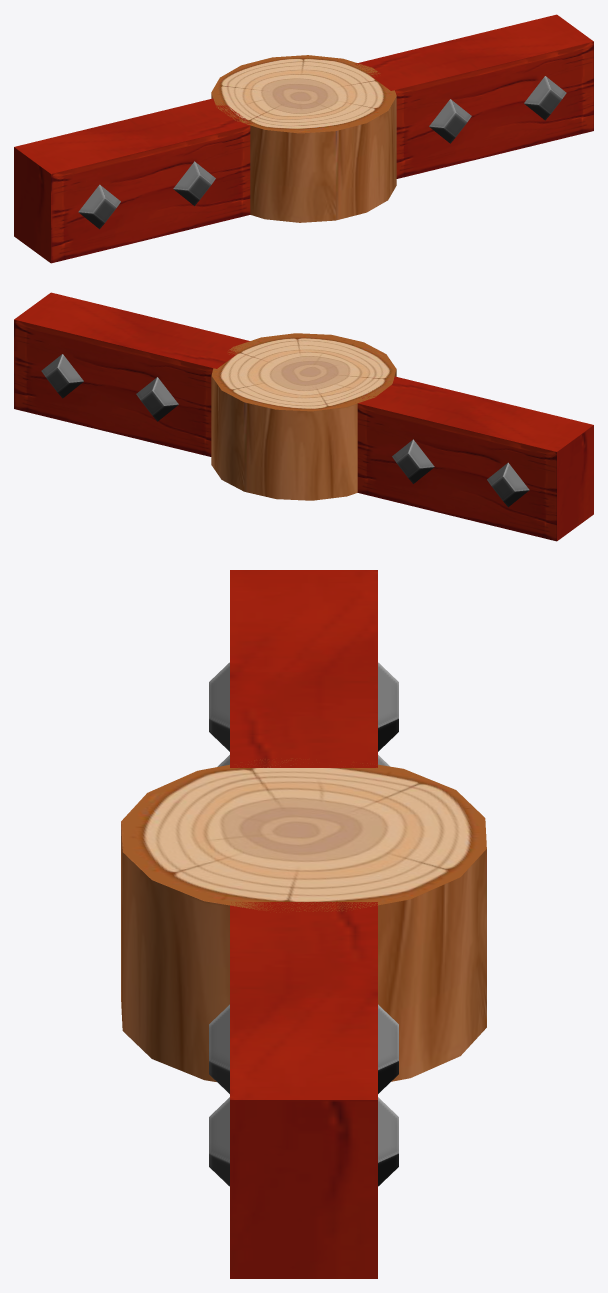
Rendered from two_blade_red_01.fbx.
The picture shows the model from 3 angles, top to bottom: view 1: azimuth 30°, elevation 25°; view 2: azimuth 150°, elevation 25°; view 3: azimuth 270°, elevation 25°; orthographic projection. The views are drawn at different scales.
Parts seen in each view (by area): view 1: Blade_73, Blade_74, wood_center_30; view 2: Blade_73, Blade_74, wood_center_30; view 3: wood_center_30, Blade_74, Blade_73.
Boxes of the visible parts, bbox=[...] form: Blade_73: bbox=[14, 98, 252, 263]; Blade_74: bbox=[355, 14, 593, 178]; wood_center_30: bbox=[211, 55, 396, 222]; Blade_73: bbox=[357, 376, 593, 541]; Blade_74: bbox=[14, 292, 249, 456]; wood_center_30: bbox=[211, 333, 396, 500]; wood_center_30: bbox=[121, 758, 486, 1081]; Blade_74: bbox=[209, 902, 398, 1278]; Blade_73: bbox=[209, 570, 398, 767].
Bounding box in the file's own units: 254 × 40 × 74.15.
